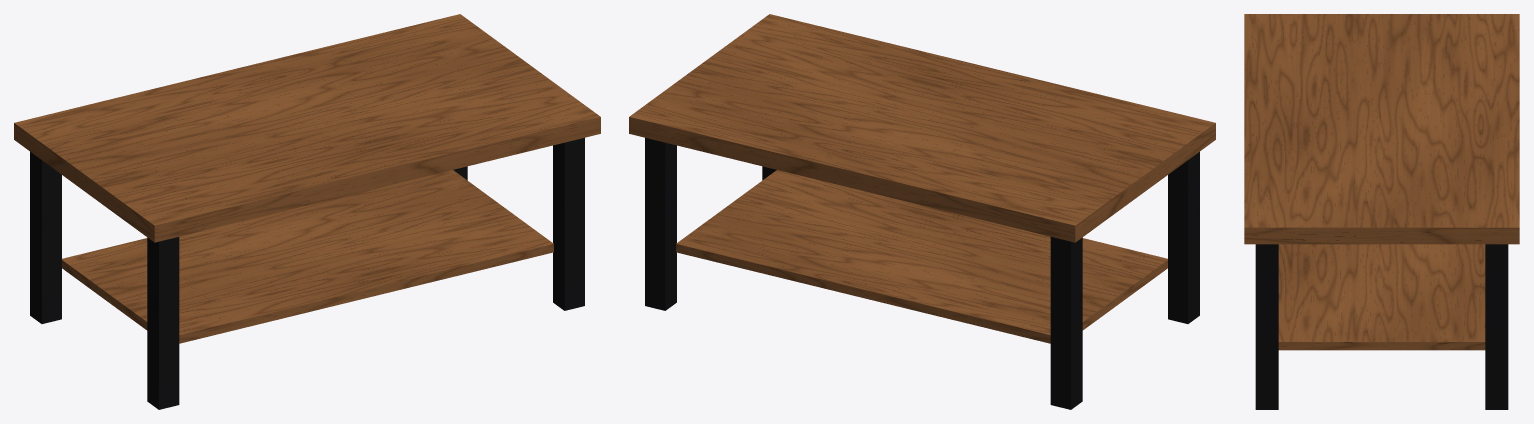
3 renders of one model, left to right at view 1: azimuth 30°, elevation 25°; view 2: azimuth 150°, elevation 25°; view 3: azimuth 270°, elevation 25°, orthographic.
Visible parts, largest first — view 1: CoffeeTable_Game; view 2: CoffeeTable_Game; view 3: CoffeeTable_Game.
Boxes of the visible parts, x1,y1,x2,y2 form: CoffeeTable_Game: [14, 14, 600, 409]; CoffeeTable_Game: [629, 14, 1215, 409]; CoffeeTable_Game: [1244, 14, 1519, 409].
Size of the model in its own units: 1.1 by 0.45 by 0.6.
Materials: 2 (2 with a texture image).
